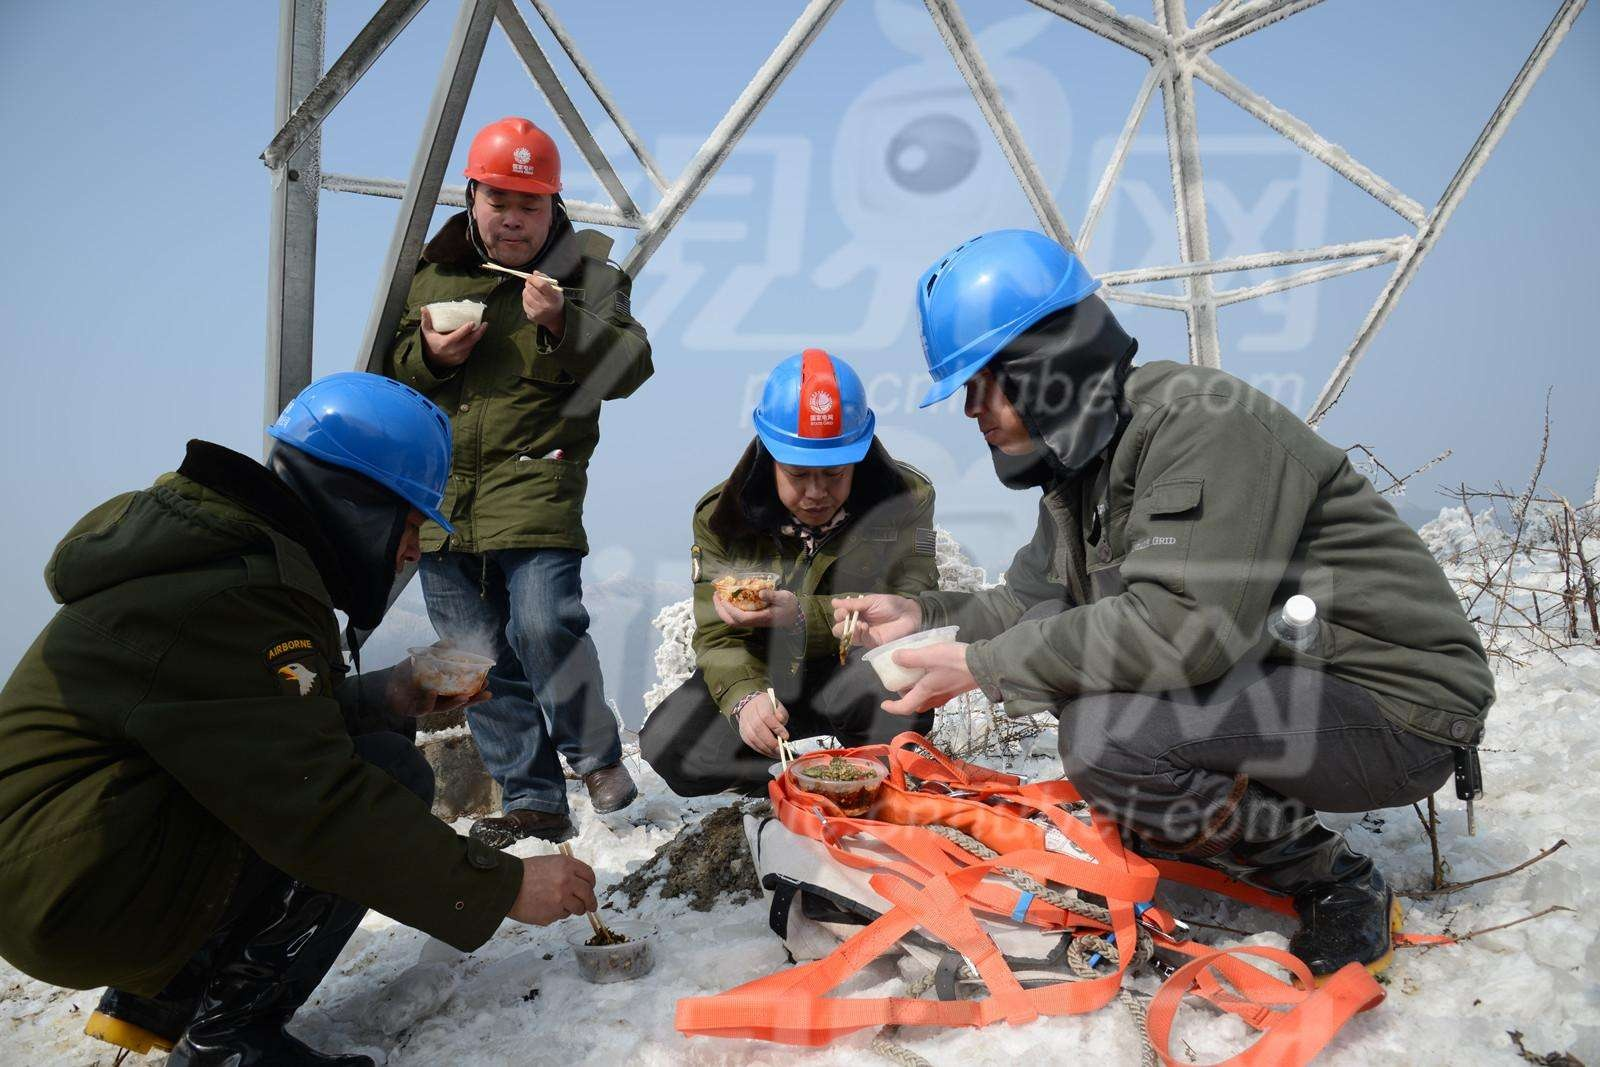blue: (254, 366, 457, 613), (904, 224, 1108, 463), (745, 344, 881, 526)
red: (457, 108, 571, 267)
